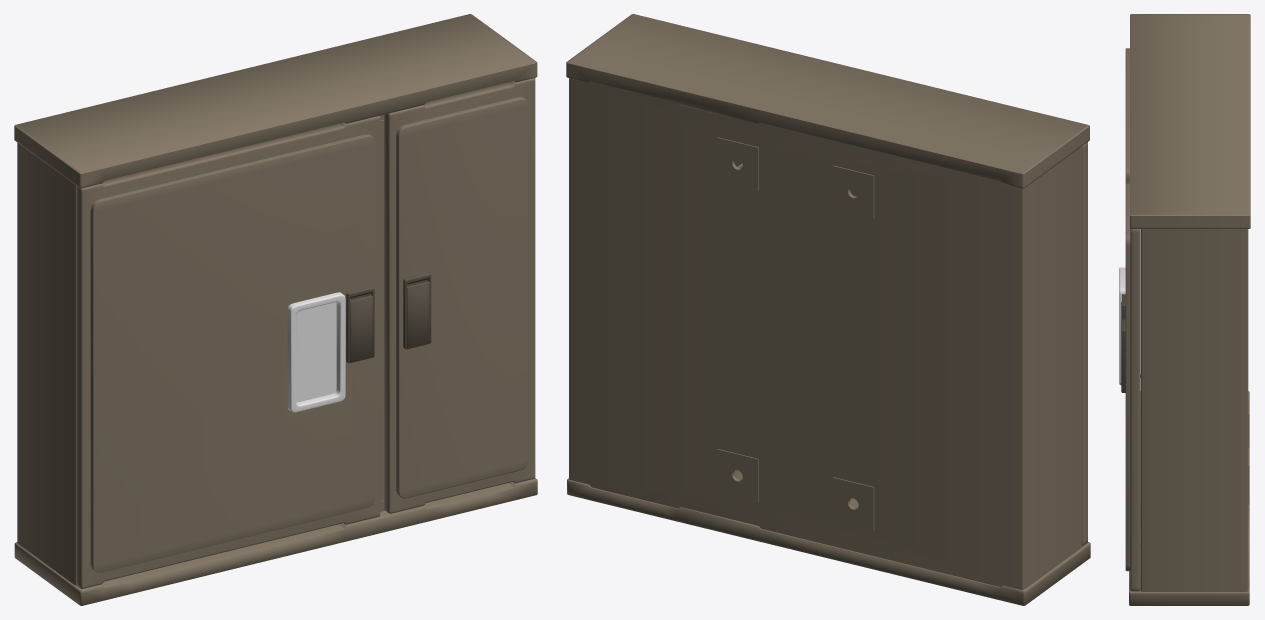
The model's file is Model_MeteringBox01.FBX.
The picture shows the model from 3 angles, left to right: view 1: azimuth 30°, elevation 25°; view 2: azimuth 150°, elevation 25°; view 3: azimuth 270°, elevation 25°; orthographic projection. The views are drawn at different scales.
Parts seen in each view (by area): view 1: Model_MeteringBox02, Model_MeteringBox01, Model_MeteringBox03, Model_MeteringBox02_Window02, Model_MeteringBox02_Window01, Model_MeteringBox03_Lock02, Model_MeteringBox01_Lock02, Model_MeteringBox03_Lock01; view 2: Model_MeteringBox01, Model_MeteringBox02; view 3: Model_MeteringBox01, Model_MeteringBox03, Model_MeteringBox02, Model_MeteringBox02_Window01, Model_MeteringBox03_Lock01.
Part boxes in pixels (<box>): Model_MeteringBox02: <box>77,116,380,588</box>; Model_MeteringBox01: <box>14,14,537,605</box>; Model_MeteringBox03: <box>384,78,535,513</box>; Model_MeteringBox02_Window02: <box>296,302,336,402</box>; Model_MeteringBox02_Window01: <box>287,292,345,412</box>; Model_MeteringBox03_Lock02: <box>407,281,429,349</box>; Model_MeteringBox01_Lock02: <box>350,295,372,362</box>; Model_MeteringBox03_Lock01: <box>403,273,431,349</box>; Model_MeteringBox01: <box>566,14,1090,605</box>; Model_MeteringBox02: <box>850,142,1087,545</box>; Model_MeteringBox01: <box>1129,14,1250,605</box>; Model_MeteringBox03: <box>1125,183,1140,591</box>; Model_MeteringBox02: <box>1125,48,1129,182</box>; Model_MeteringBox02_Window01: <box>1119,267,1125,385</box>; Model_MeteringBox03_Lock01: <box>1122,319,1125,392</box>.
Bounding box in the file's own units: 1108 × 305 × 1002.
